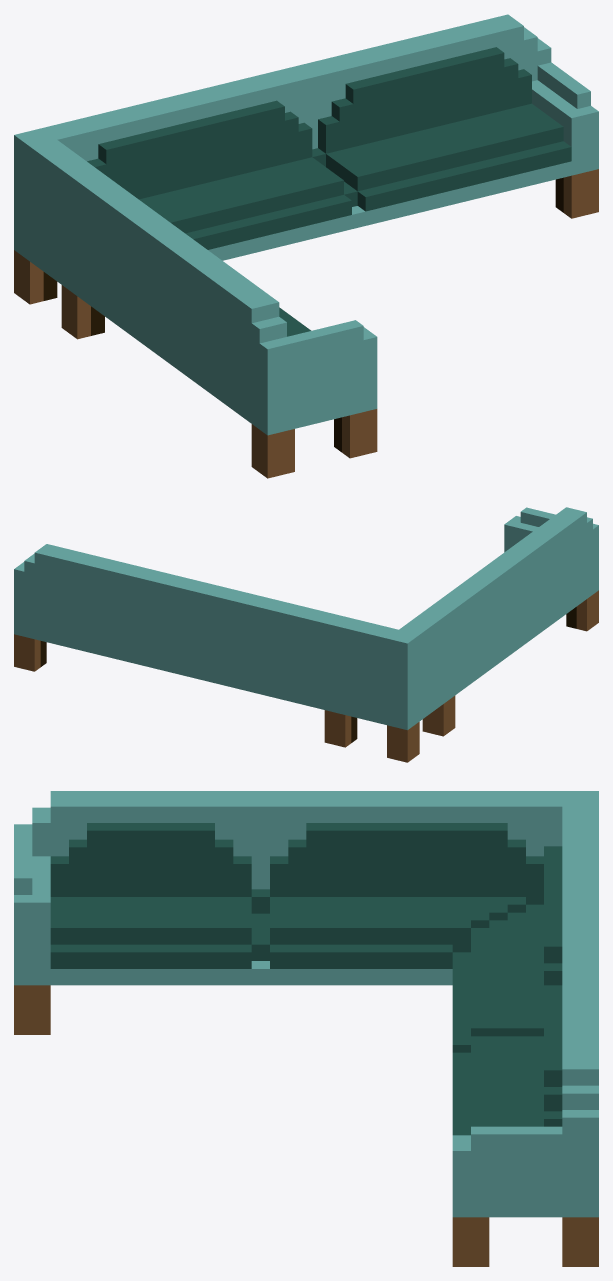
File: Lcouch.obj
3 views of the same model, one above another, from view 1: azimuth 30°, elevation 25°; view 2: azimuth 150°, elevation 25°; view 3: azimuth 270°, elevation 25° (orthographic). The views are drawn at different scales.
Visible parts, largest first — view 1: Lcouch; view 2: Lcouch; view 3: Lcouch.
Part boxes in pixels (x1,y1,x2,y2): Lcouch: (14, 14, 598, 478); Lcouch: (14, 507, 598, 762); Lcouch: (14, 791, 598, 1266).
Size of the model in its own units: 38 by 11 by 32.
1 material, 1 textured.
